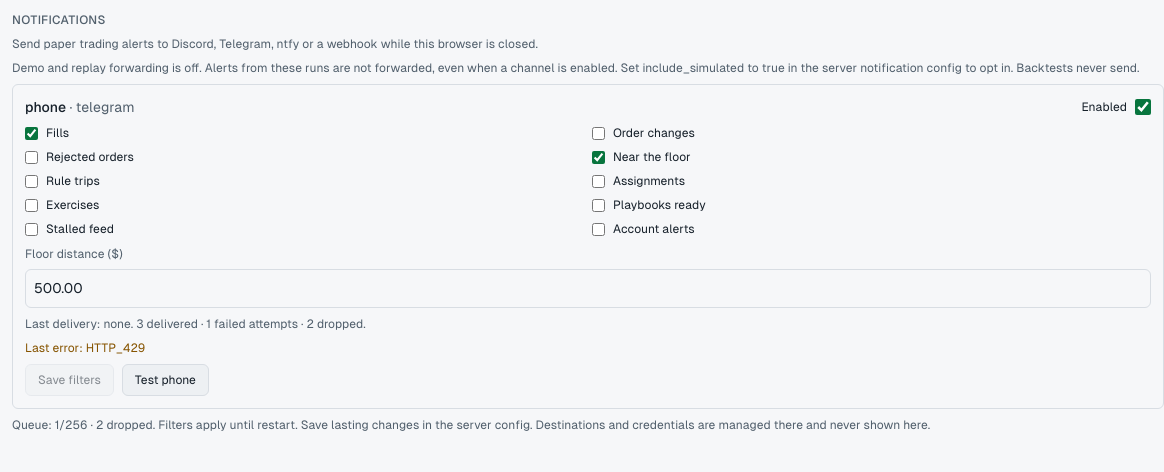
Scenario: notification settings › queues a test and distinguishes queued from delivered
The width and height of the screenshot is (1164, 472).
Click the button "Test phone". click: (165, 380)
box: top-left (122, 364), bottom-right (209, 396)
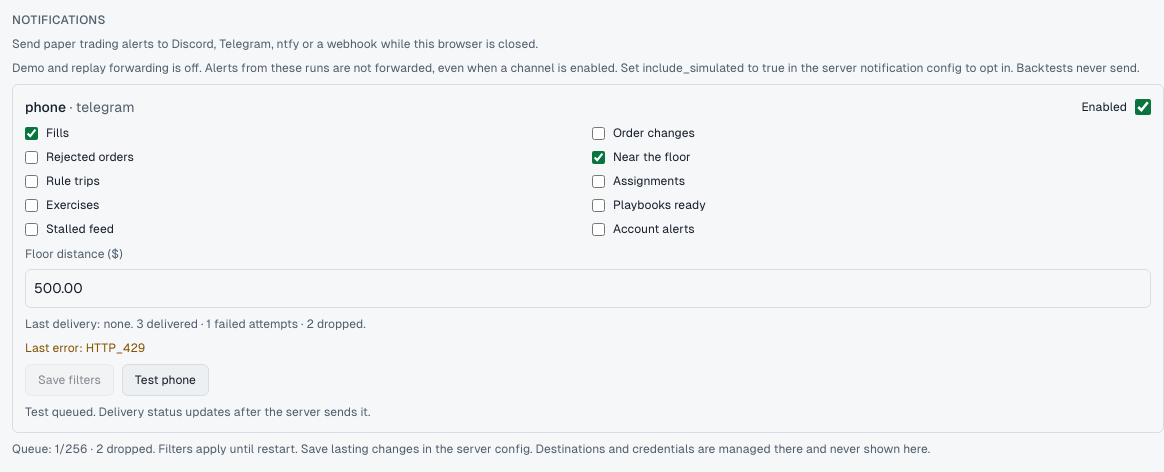
Expected: the text "Last delivery: none" is shown, top-left (25, 317), bottom-right (366, 331)
Expected: the text "Test queued" is shown, top-left (25, 405), bottom-right (370, 419)
